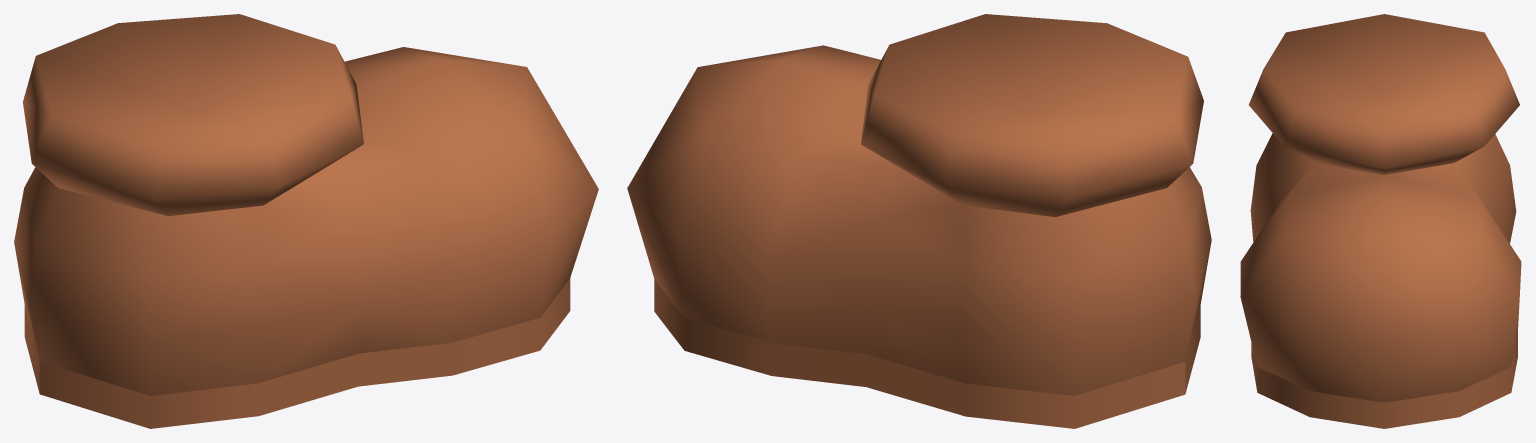
File: foot_ns.glb
3 views of the same model, side by side, from view 1: azimuth 30°, elevation 25°; view 2: azimuth 150°, elevation 25°; view 3: azimuth 270°, elevation 25° (orthographic). The views are drawn at different scales.
Parts seen in each view (by area): view 1: yoshi_m3Shape[0][0].001; view 2: yoshi_m3Shape[0][0].001; view 3: yoshi_m3Shape[0][0].001.
Boxes of the visible parts, <box> form: yoshi_m3Shape[0][0].001: <box>14,14,598,428</box>; yoshi_m3Shape[0][0].001: <box>627,14,1211,428</box>; yoshi_m3Shape[0][0].001: <box>1240,14,1521,428</box>.
Size of the model in its own units: 0.641 by 0.3148 by 0.3634.
